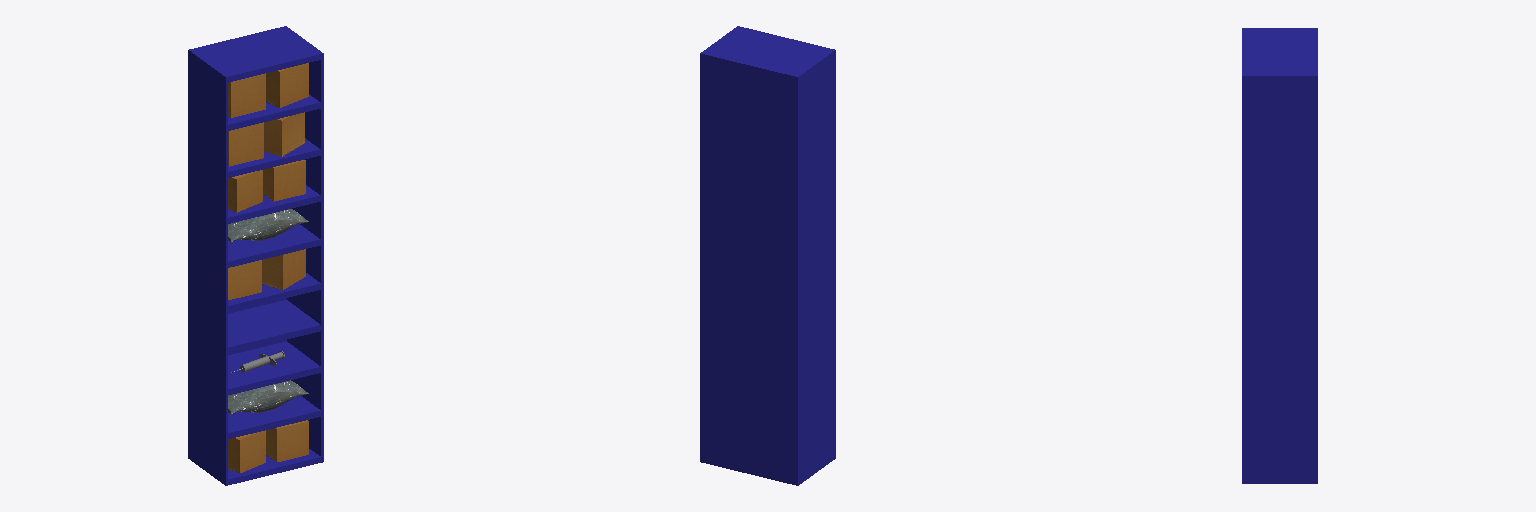
The picture shows the model from 3 angles: view 1: azimuth 30°, elevation 25°; view 2: azimuth 150°, elevation 25°; view 3: azimuth 270°, elevation 25°; orthographic projection.
Visible parts, largest first — view 1: Cube.012_Cube.002, Cube.020_Cube.011, Cube.021_Cube.012, Cube.000_Cube.015, Cube.022_Cube.013, Cube.027, Cube.007_Cube.030, Cube.018_Cube.023, Cube.006_Cube.029, Cube.016, Cube.015_Cube.021, Cube.017_Cube.022 (+9 smaller); view 2: Cube.012_Cube.002; view 3: Cube.012_Cube.002.
Boxes of the visible parts, box(x1,y1,x2,y2) form: Cube.012_Cube.002: box(188, 26, 323, 485); Cube.020_Cube.011: box(228, 300, 320, 353); Cube.021_Cube.012: box(228, 341, 320, 394); Cube.000_Cube.015: box(228, 224, 320, 267); Cube.022_Cube.013: box(228, 396, 320, 438); Cube.027: box(228, 380, 308, 413); Cube.007_Cube.030: box(228, 209, 308, 241); Cube.018_Cube.023: box(266, 63, 308, 107); Cube.006_Cube.029: box(266, 420, 308, 461); Cube.016: box(263, 160, 305, 201); Cube.015_Cube.021: box(264, 112, 304, 156); Cube.017_Cube.022: box(228, 73, 265, 117); Cube.012_Cube.002: box(700, 26, 835, 485); Cube.012_Cube.002: box(1242, 28, 1317, 483).
Bounding box in the file's own units: 0.6232 × 2.49 × 0.4147.
6 materials, 3 textured.